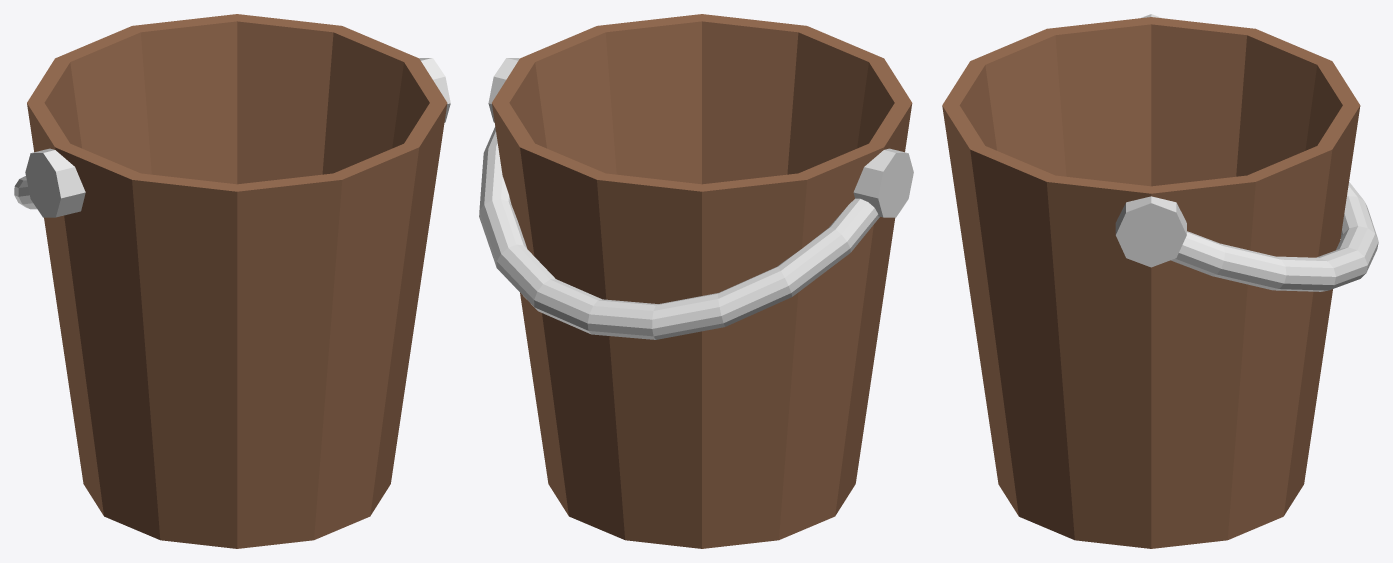
File: waterBucket-empty.fbx
3 renders of one model, left to right at view 1: azimuth 30°, elevation 25°; view 2: azimuth 150°, elevation 25°; view 3: azimuth 270°, elevation 25°, orthographic.
Visible parts, largest first — view 1: SeauVide; view 2: SeauVide; view 3: SeauVide.
Boxes of the visible parts, x1,y1,x2,y2 form: SeauVide: [14, 14, 450, 548]; SeauVide: [479, 14, 913, 548]; SeauVide: [942, 14, 1378, 548].
Size of the model in its own units: 214 by 200 by 209.
